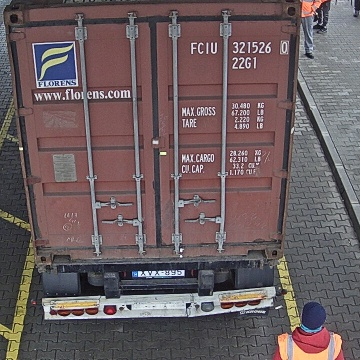serial_id: (190, 41, 287, 54)
